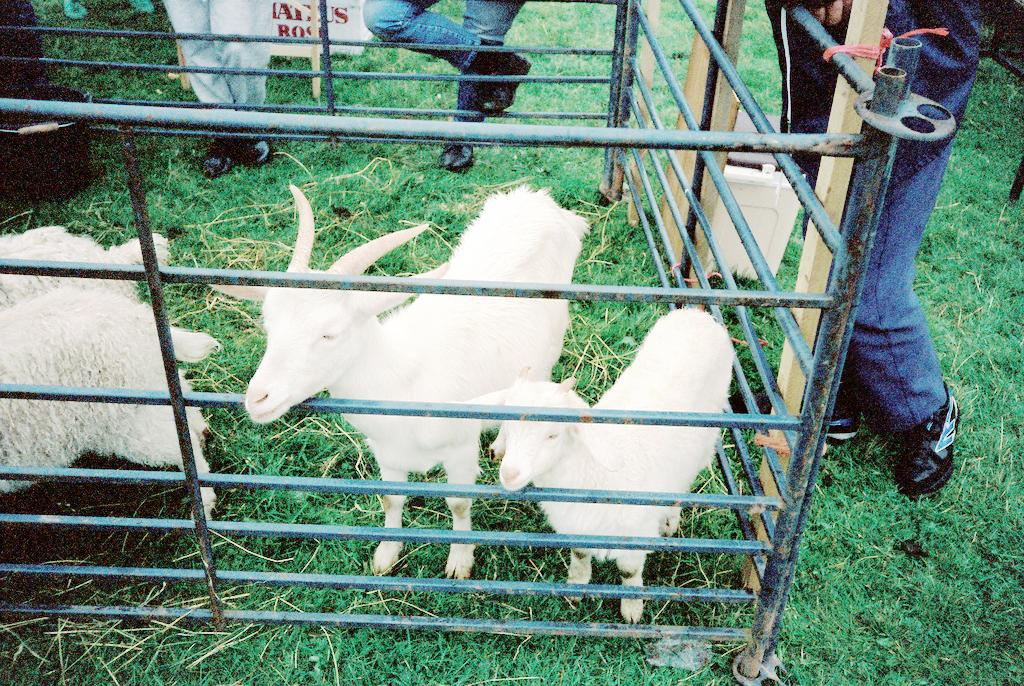Sheep: (206, 178, 592, 582), (466, 306, 736, 622), (0, 280, 221, 510), (0, 230, 166, 298)
